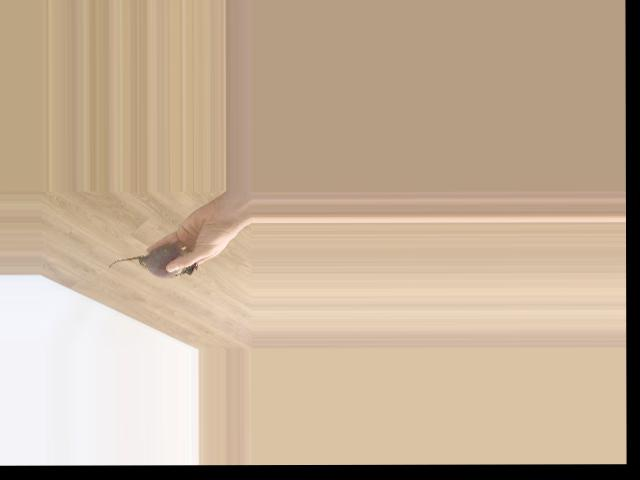beet: (108, 245, 197, 277)
